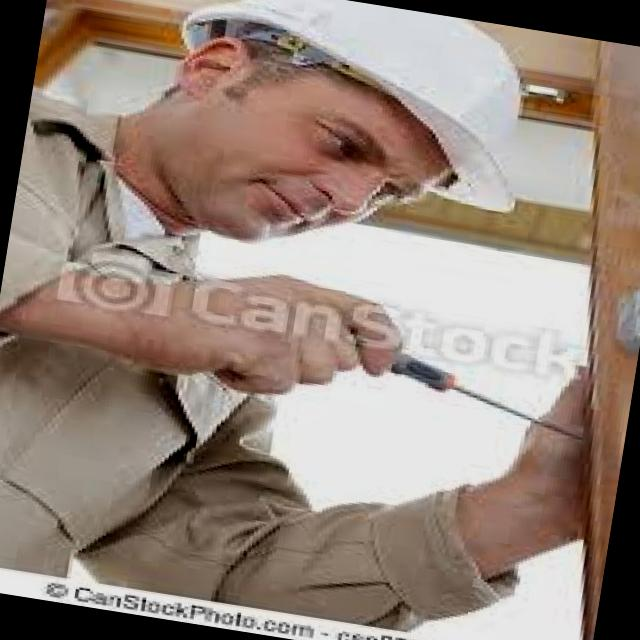screwdriver: (391, 354, 579, 439)
